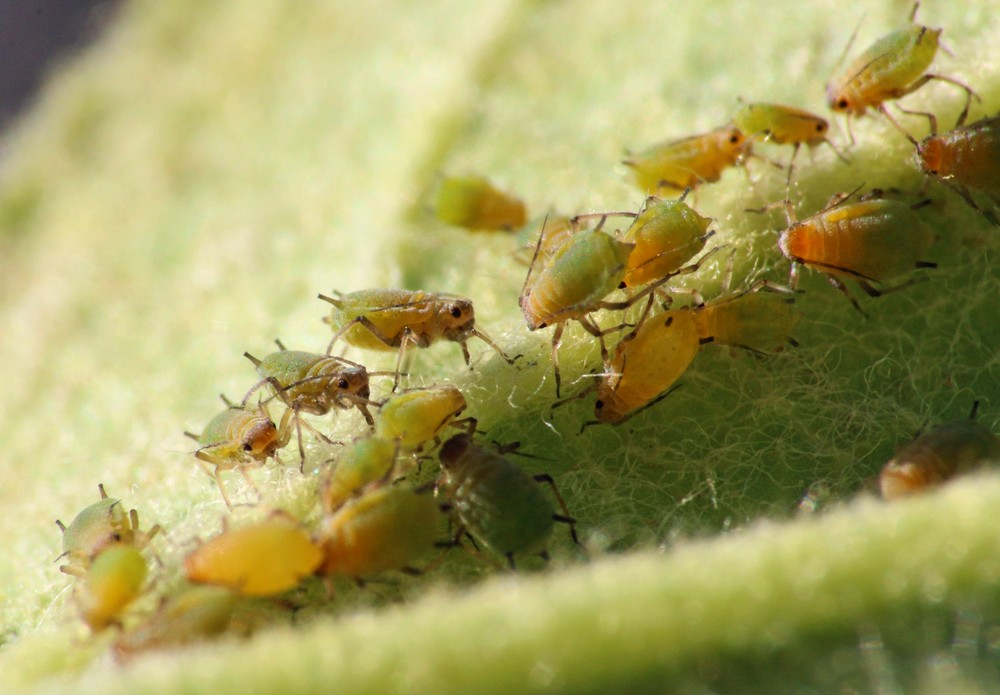Pulgon: (424, 422, 594, 580), (775, 178, 951, 312), (313, 272, 518, 375), (572, 300, 717, 431), (819, 20, 985, 134), (511, 221, 636, 349), (310, 489, 465, 587), (177, 513, 319, 615), (611, 117, 777, 202), (239, 336, 386, 430), (617, 191, 725, 305), (173, 391, 300, 485), (694, 272, 821, 366), (411, 151, 544, 236), (732, 86, 852, 177), (902, 102, 1000, 206), (42, 480, 164, 555), (370, 377, 491, 446)
